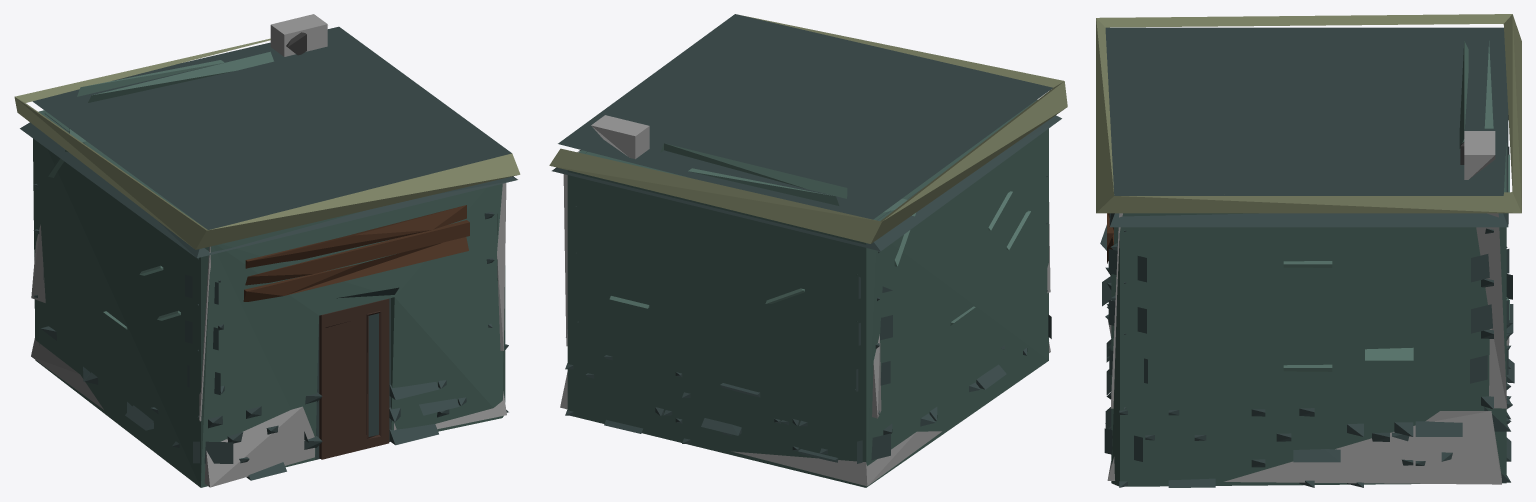
Rendered from 1Story_Sign_lod.glb.
3 renders of one model, left to right at view 1: azimuth 30°, elevation 25°; view 2: azimuth 150°, elevation 25°; view 3: azimuth 270°, elevation 25°, orthographic. The views are drawn at different scales.
Visible parts, largest first — view 1: 1Story_Sign_Mat; view 2: 1Story_Sign_Mat; view 3: 1Story_Sign_Mat.
Part boxes in pixels (box(x1,y1,x2,y2)): 1Story_Sign_Mat: box(14, 14, 520, 487); 1Story_Sign_Mat: box(549, 14, 1067, 487); 1Story_Sign_Mat: box(1096, 14, 1521, 487).
Size of the model in its own units: 2.13 by 1.78 by 2.15.
